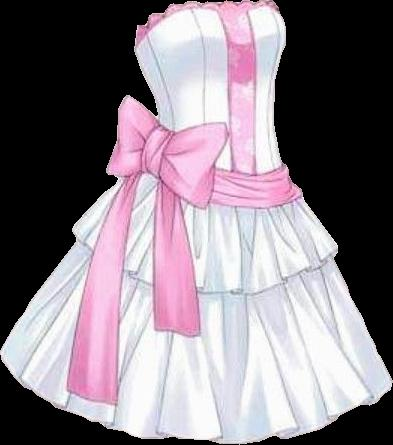Bodice: (134, 0, 301, 209)
Hemline: (0, 348, 392, 444), (70, 226, 339, 298)
Neckline: (131, 1, 274, 49)
Skirt: (0, 167, 392, 443)
Waistline: (139, 166, 303, 212)
